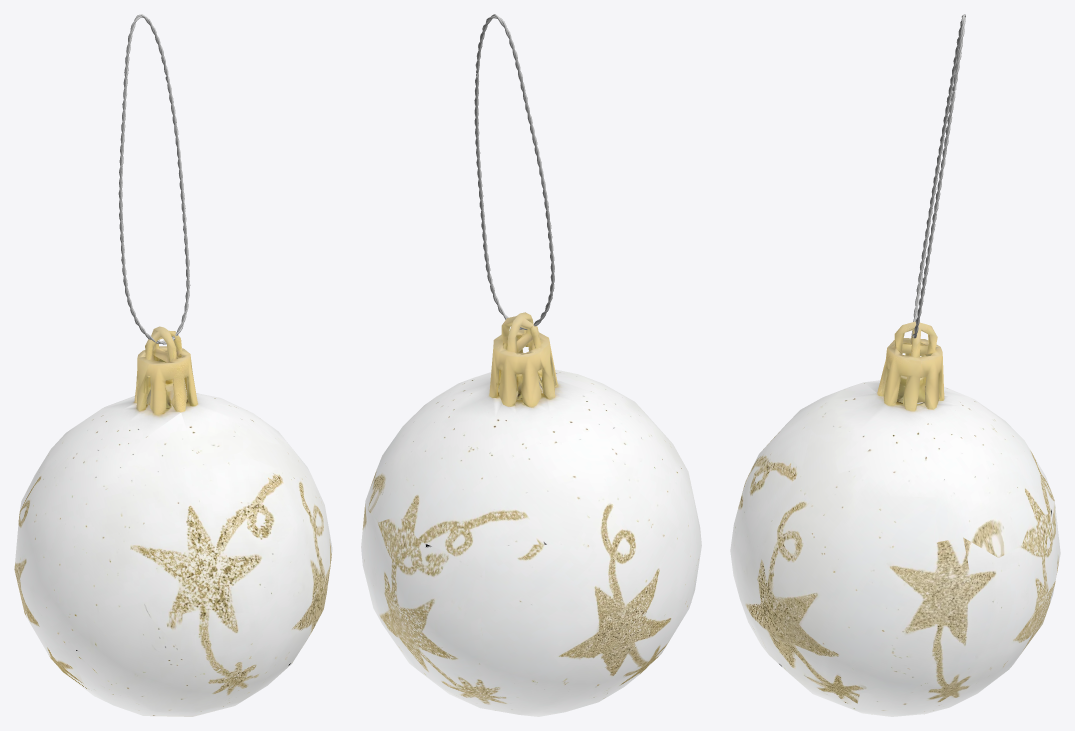
The model's file is Starry_White_Orb.glb.
3 renders of one model, left to right at view 1: azimuth 30°, elevation 25°; view 2: azimuth 150°, elevation 25°; view 3: azimuth 270°, elevation 25°, orthographic. The views are drawn at different scales.
Parts seen in each view (by area): view 1: Mesh1.0, GN Instance; view 2: Mesh1.0, GN Instance; view 3: Mesh1.0, GN Instance.
Part boxes in pixels (bbox=[...]): Mesh1.0: bbox=[14, 326, 332, 716]; GN Instance: bbox=[118, 14, 190, 344]; Mesh1.0: bbox=[361, 312, 701, 716]; GN Instance: bbox=[474, 14, 554, 329]; Mesh1.0: bbox=[730, 321, 1060, 716]; GN Instance: bbox=[911, 14, 965, 338].
Bounding box in the file's own units: 0.055 × 0.1261 × 0.055.
Materials: 2 (1 with a texture image).
